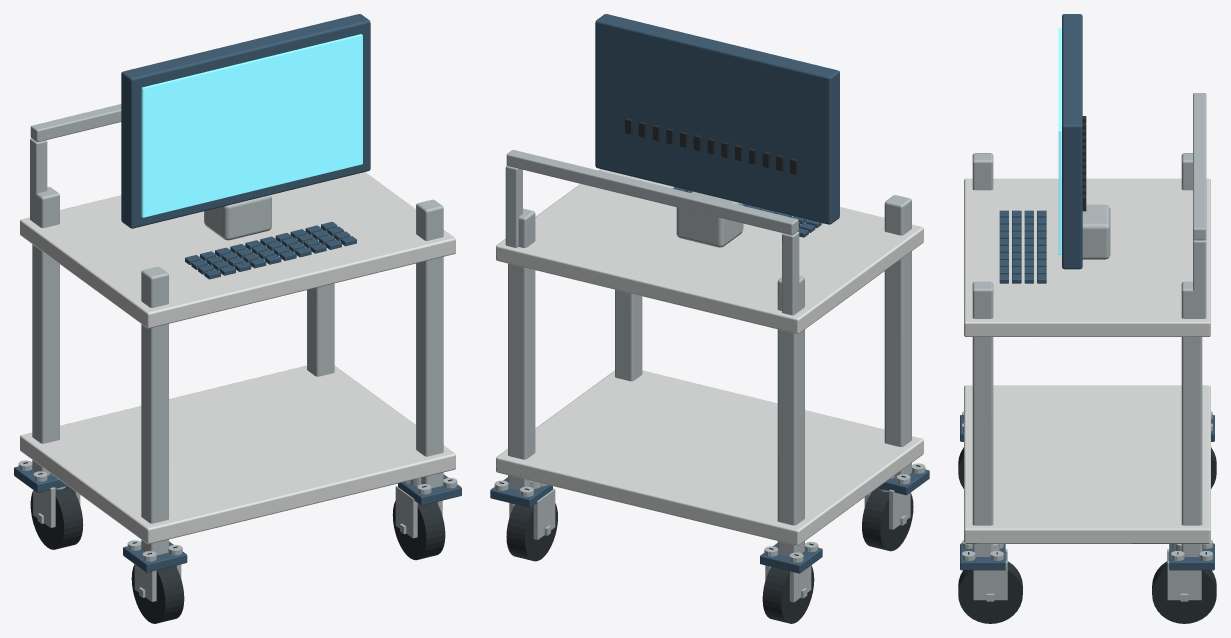
File: container-inspection-and-customs-yard-container-inspec-095269bd__29286.glb
The picture shows the model from 3 angles, left to right: view 1: azimuth 30°, elevation 25°; view 2: azimuth 150°, elevation 25°; view 3: azimuth 270°, elevation 25°; orthographic projection. The views are drawn at different scales.
Visible parts, largest first — view 1: container-inspection-and-customs-yard-mobile-x-ray-console; view 2: container-inspection-and-customs-yard-mobile-x-ray-console; view 3: container-inspection-and-customs-yard-mobile-x-ray-console.
Boxes of the visible parts, x1=… form: container-inspection-and-customs-yard-mobile-x-ray-console: x1=14, y1=14, x2=461, y2=623; container-inspection-and-customs-yard-mobile-x-ray-console: x1=490, y1=14, x2=929, y2=623; container-inspection-and-customs-yard-mobile-x-ray-console: x1=958, y1=14, x2=1216, y2=623.
Bounding box in the file's own units: 0.9199 × 1.42 × 0.68.
